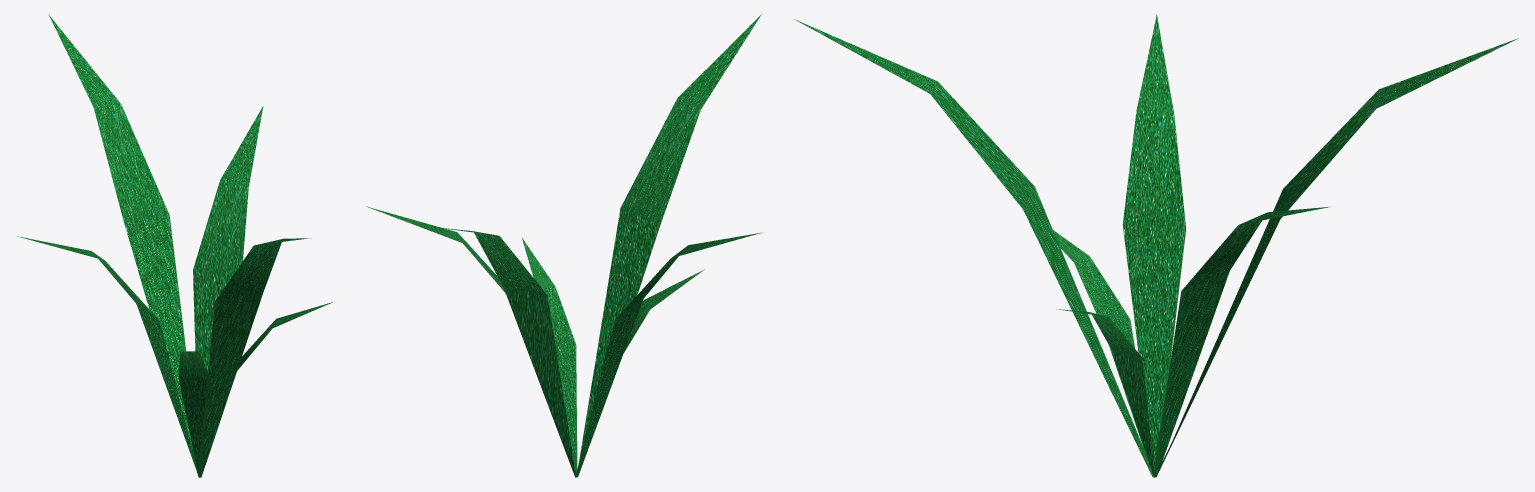
File: Matinho.FBX
3 renders of one model, left to right at view 1: azimuth 30°, elevation 25°; view 2: azimuth 150°, elevation 25°; view 3: azimuth 270°, elevation 25°, orthographic. The views are drawn at different scales.
Parts seen in each view (by area): view 1: Plane024, Plane027, Plane025, Plane026, Plane029, Plane028; view 2: Plane025, Plane024, Plane026, Plane028, Plane027, Plane029; view 3: Plane026, Plane025, Plane027, Plane024, Plane028, Plane029.
Boxes of the visible parts, x1,y1,x2,y2 form: Plane024: (48, 14, 198, 475); Plane027: (193, 106, 263, 372); Plane025: (198, 238, 311, 477); Plane026: (17, 236, 198, 476); Plane029: (178, 351, 207, 477); Plane028: (199, 301, 334, 477); Plane025: (577, 14, 761, 476); Plane024: (430, 226, 576, 477); Plane026: (575, 232, 761, 477); Plane028: (522, 238, 577, 474); Plane027: (366, 206, 575, 477); Plane029: (596, 269, 704, 391); Plane026: (1122, 14, 1185, 466); Plane025: (794, 19, 1153, 476); Plane027: (1153, 206, 1330, 477); Plane024: (1155, 38, 1518, 476); Plane028: (1056, 309, 1154, 477); Plane029: (1053, 230, 1154, 474).
Size of the model in its own units: 21.54 by 22.85 by 34.42.
Materials: 1 (1 with a texture image).
